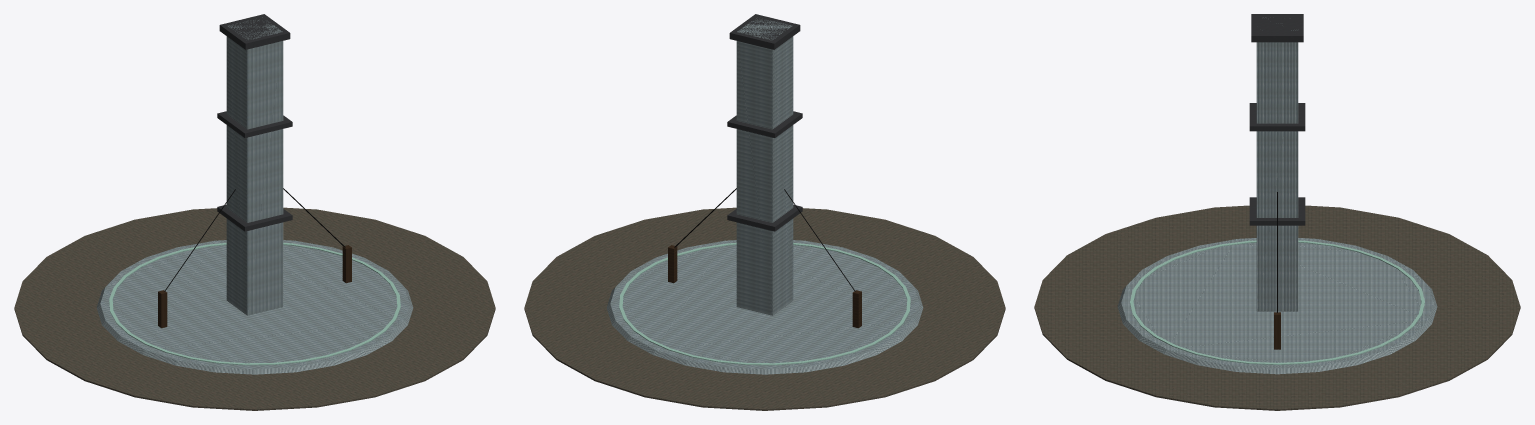
The model's file is skyport_mooring_tower_01.glb.
The picture shows the model from 3 angles, left to right: view 1: azimuth 30°, elevation 25°; view 2: azimuth 150°, elevation 25°; view 3: azimuth 270°, elevation 25°; orthographic projection.
Parts seen in each view (by area): view 1: skyport_mooring_tower_01; view 2: skyport_mooring_tower_01; view 3: skyport_mooring_tower_01.
Part boxes in pixels (bbox=[...]): skyport_mooring_tower_01: bbox=[14, 14, 495, 410]; skyport_mooring_tower_01: bbox=[524, 14, 1005, 410]; skyport_mooring_tower_01: bbox=[1034, 14, 1520, 410].
Size of the model in its own units: 28 by 18 by 28.
Materials: 6 (6 with a texture image).
